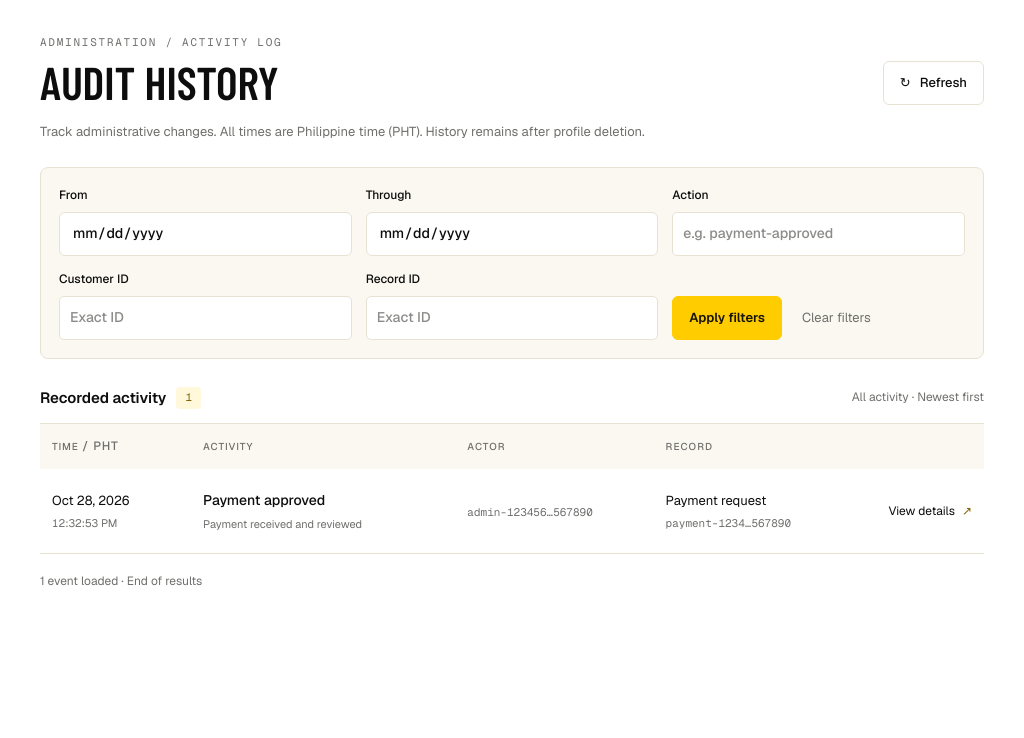
Test: formats stored centavos as pesos while preserving the raw data
Click the button with aria-label "View details:" at coordinates (930, 511), box [888,489,972,533]
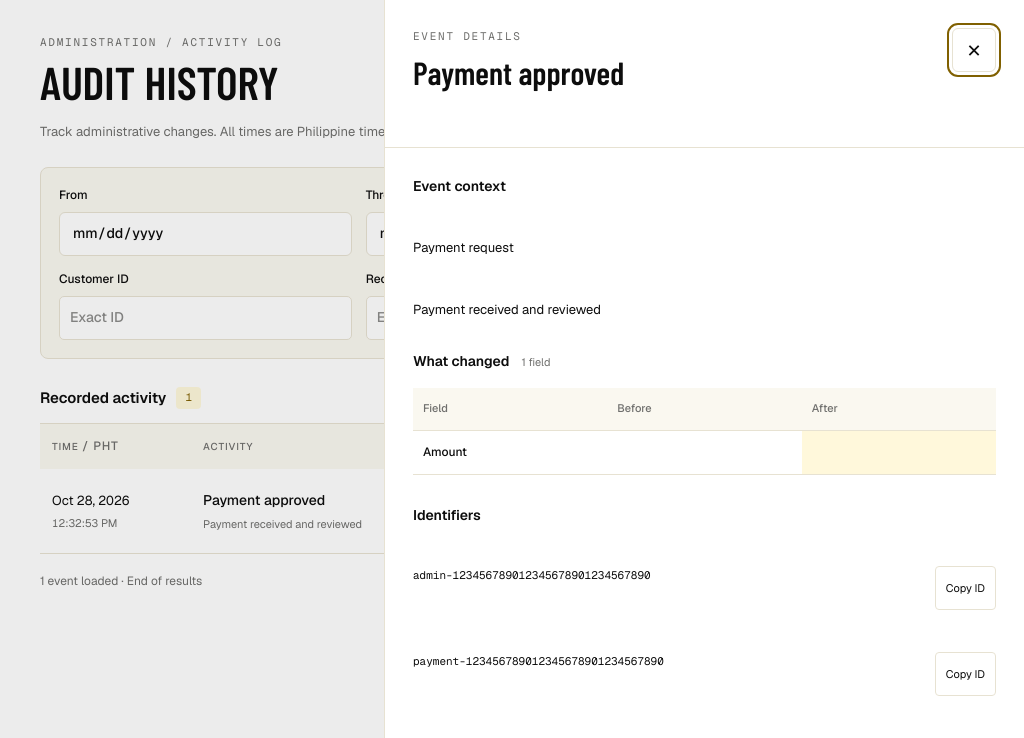
expect the column heading "Amount" is shown: met, box [413,430,607,474]
expect the text "₱60.00" is shown: met, box [802,430,996,474]
expect the text "Not recorded" is shown: met, box [607,430,802,474]
